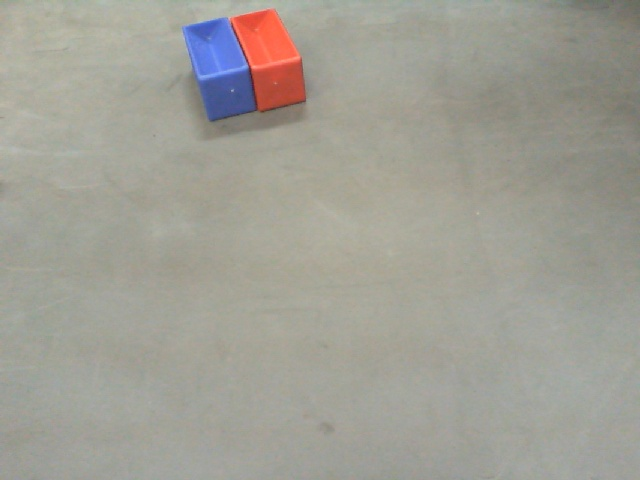BlueSample: (177, 19, 256, 125)
RedSample: (229, 5, 314, 114)
